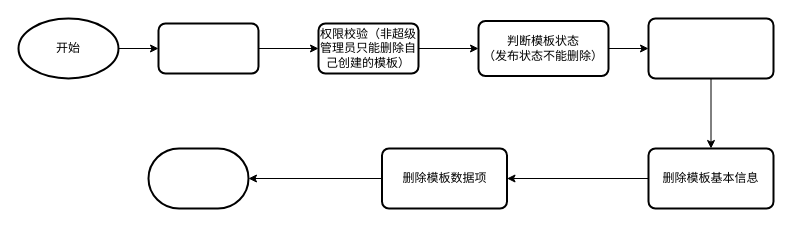
The diagram is 791 pixels wide and 226 high, and some of its shapes have lost their labels. The shapes that lost their labels are listed below. From the top down, each one's centre as x and y in pixels, then its label:
the point at 208,48: 校验id是否正确
the point at 710,48: 删除编排页面
the point at 198,178: 结束
